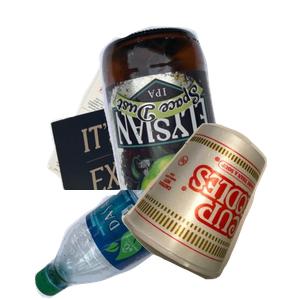glass: (97, 24, 300, 204)
paper: (45, 34, 230, 214)
plastic: (32, 154, 242, 300)
trash: (119, 121, 300, 300)
